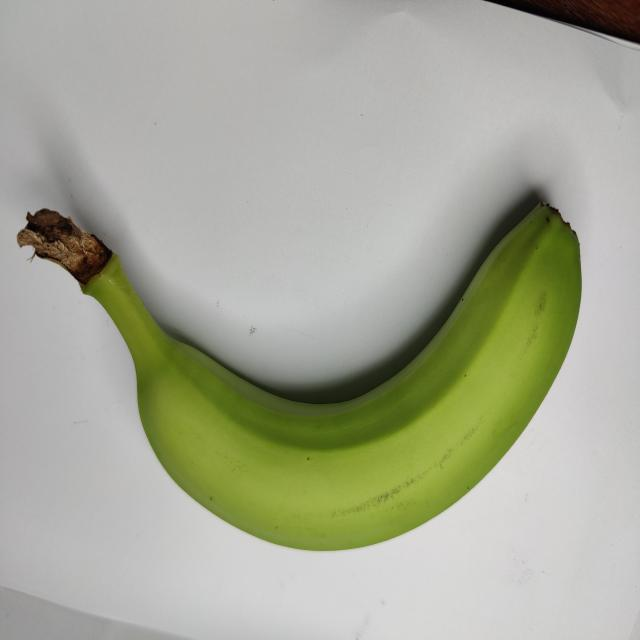raw: (7, 135, 605, 555)
